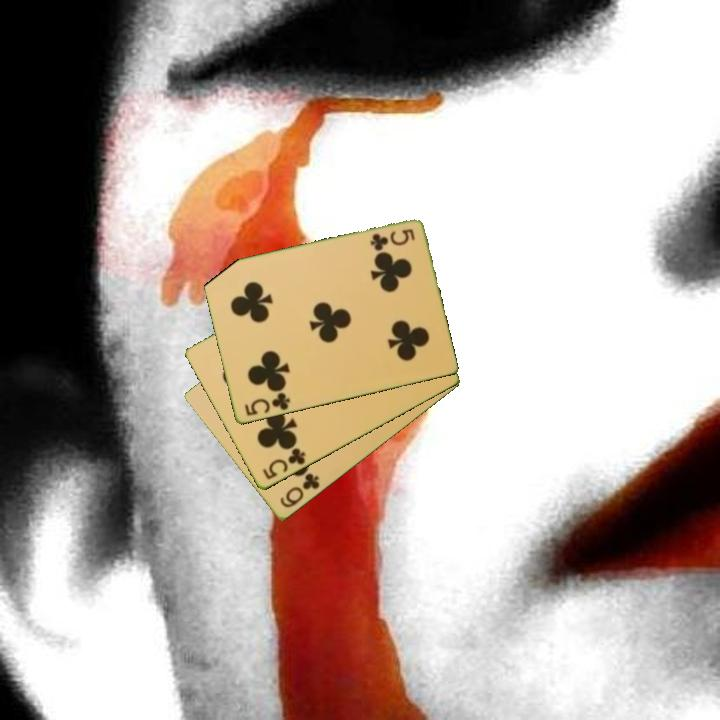5c: (259, 445, 308, 483), (241, 389, 293, 419), (366, 226, 418, 254)
6c: (276, 470, 323, 511)
